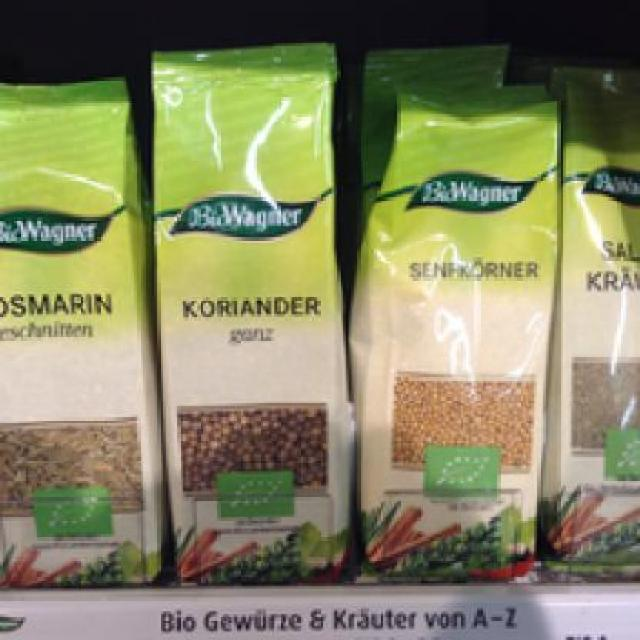Spices: (146, 42, 346, 578), (352, 70, 558, 586), (0, 77, 160, 583)
